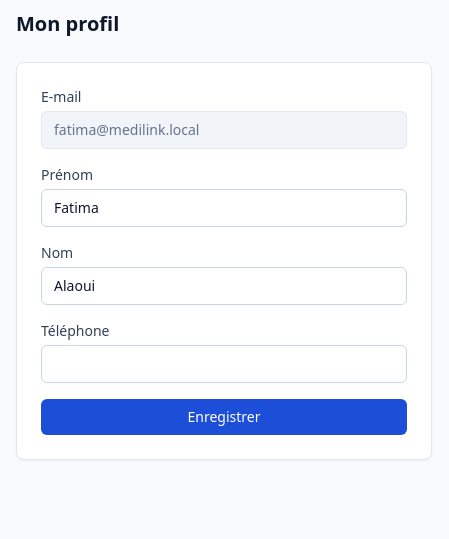
it: PatientProfilePage › affiche une erreur API en cas d'échec
Step 1. Click the button "Enregistrer" → (224, 417), box 41,399 -> 407,435
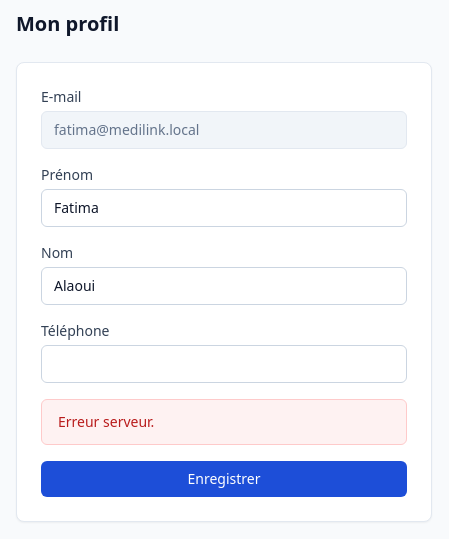
Check: the text "Erreur serveur." is shown, box 41,399 -> 407,445
